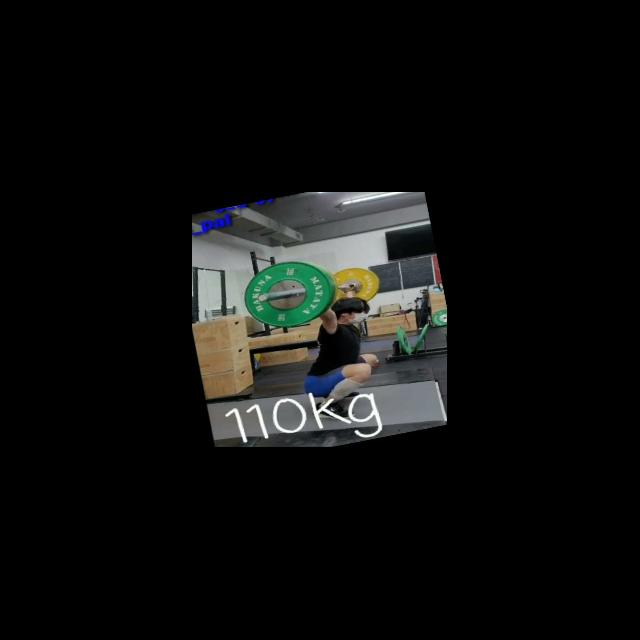barbell: (235, 251, 348, 341)
